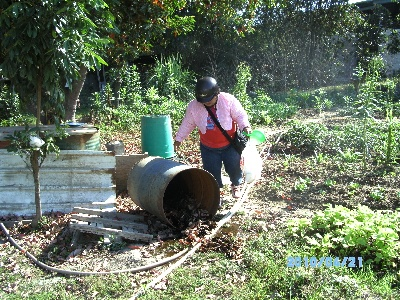bucket: (127, 155, 220, 230), (142, 114, 174, 158)
